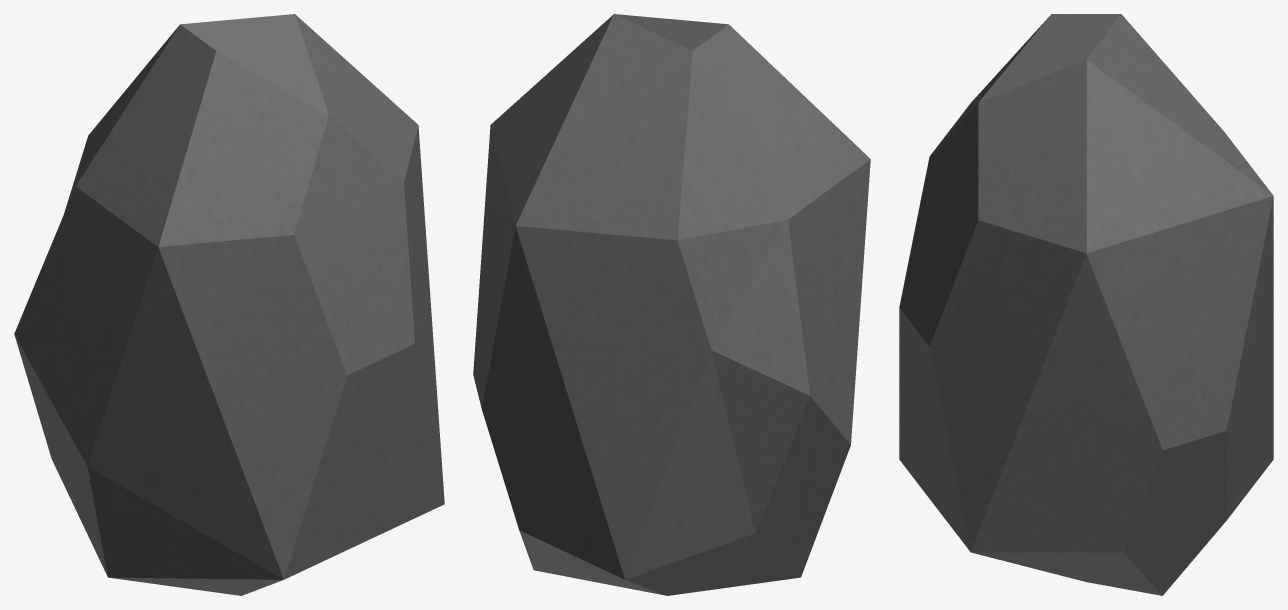
File: Rock1.fbx
The picture shows the model from 3 angles, left to right: view 1: azimuth 30°, elevation 25°; view 2: azimuth 150°, elevation 25°; view 3: azimuth 270°, elevation 25°; orthographic projection. The views are drawn at different scales.
Visible parts, largest first — view 1: Rock1; view 2: Rock1; view 3: Rock1.
Boxes of the visible parts, x1,y1,x2,y2 form: Rock1: (14, 14, 444, 595); Rock1: (473, 14, 870, 595); Rock1: (899, 14, 1273, 595).
Bounding box in the file's own units: 71.53 × 107 × 66.53.
